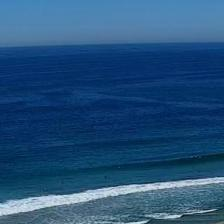surfer: (61, 180, 64, 184), (42, 189, 48, 191), (104, 175, 107, 178)
